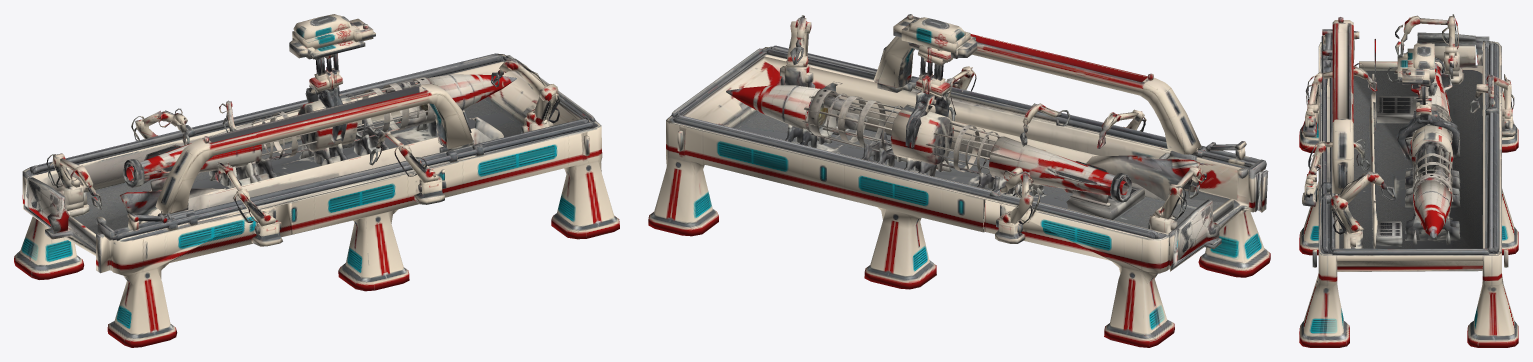
Rendered from shipyard.fbx.
3 views of the same model, side by side, from view 1: azimuth 30°, elevation 25°; view 2: azimuth 150°, elevation 25°; view 3: azimuth 270°, elevation 25° (orthographic). The views are drawn at different scales.
Parts seen in each view (by area): view 1: Mesh_0; view 2: Mesh_0; view 3: Mesh_0.
Part boxes in pixels (x1,y1,x2,y2): Mesh_0: (14,14,619,347); Mesh_0: (648,14,1270,347); Mesh_0: (1299,14,1518,347).
Size of the model in its own units: 95.17 by 38.77 by 39.36.
Materials: 1 (1 with a texture image).
